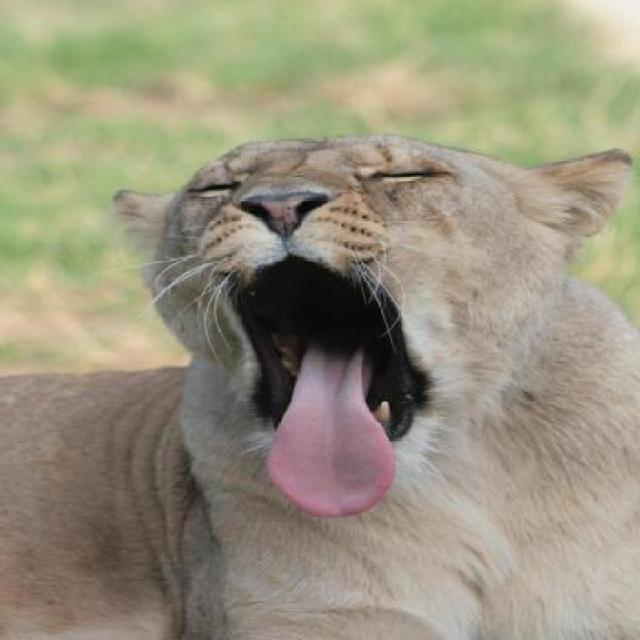Lion: (31, 76, 631, 638)
